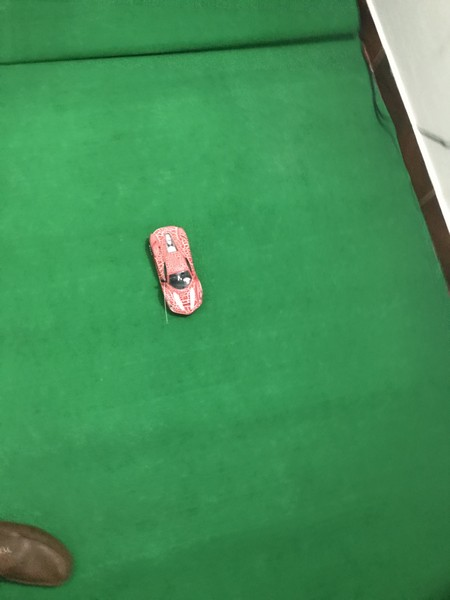RC: (146, 224, 206, 318)
